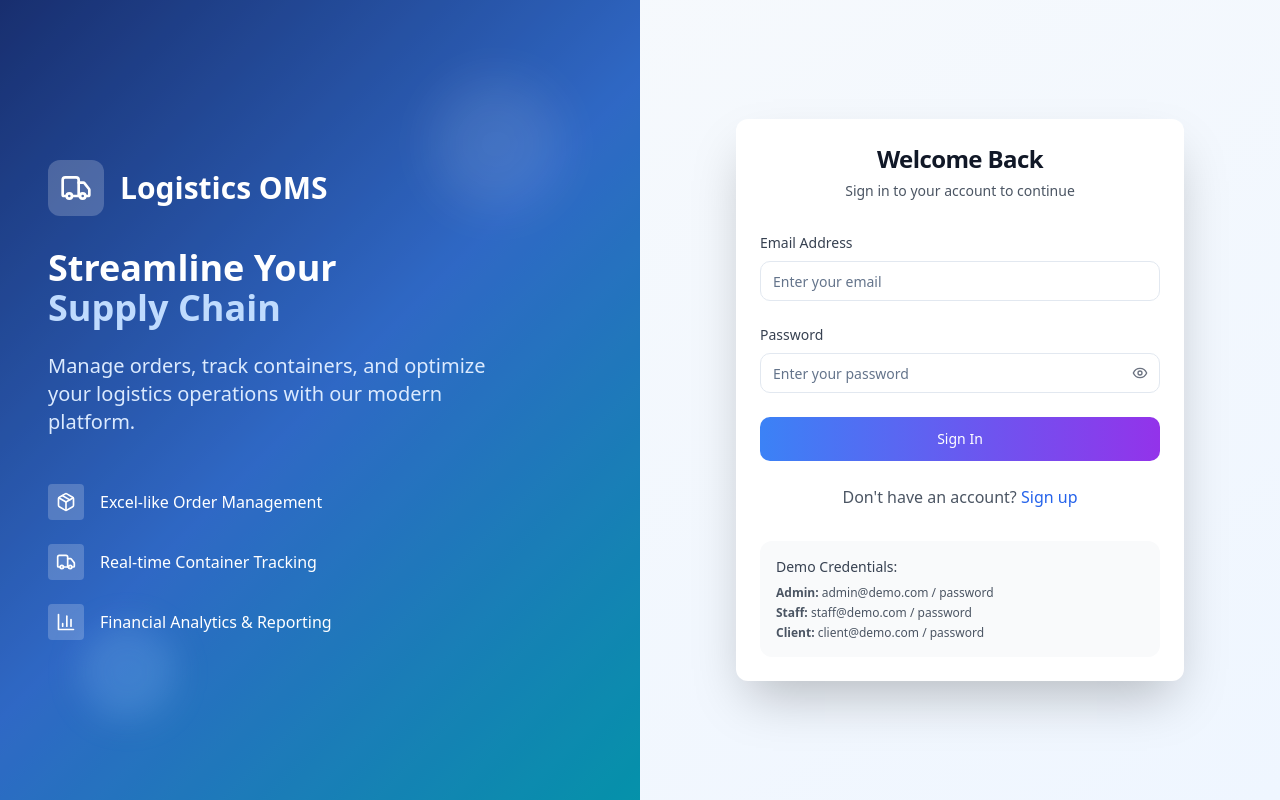
Test: Login Component - All Elements and Buttons › Form Input Tests › clears errors when user starts typing
Note: Submit empty form to trigger validation
Click the button "Sign In" at (960, 439), box [760,417,1160,461]
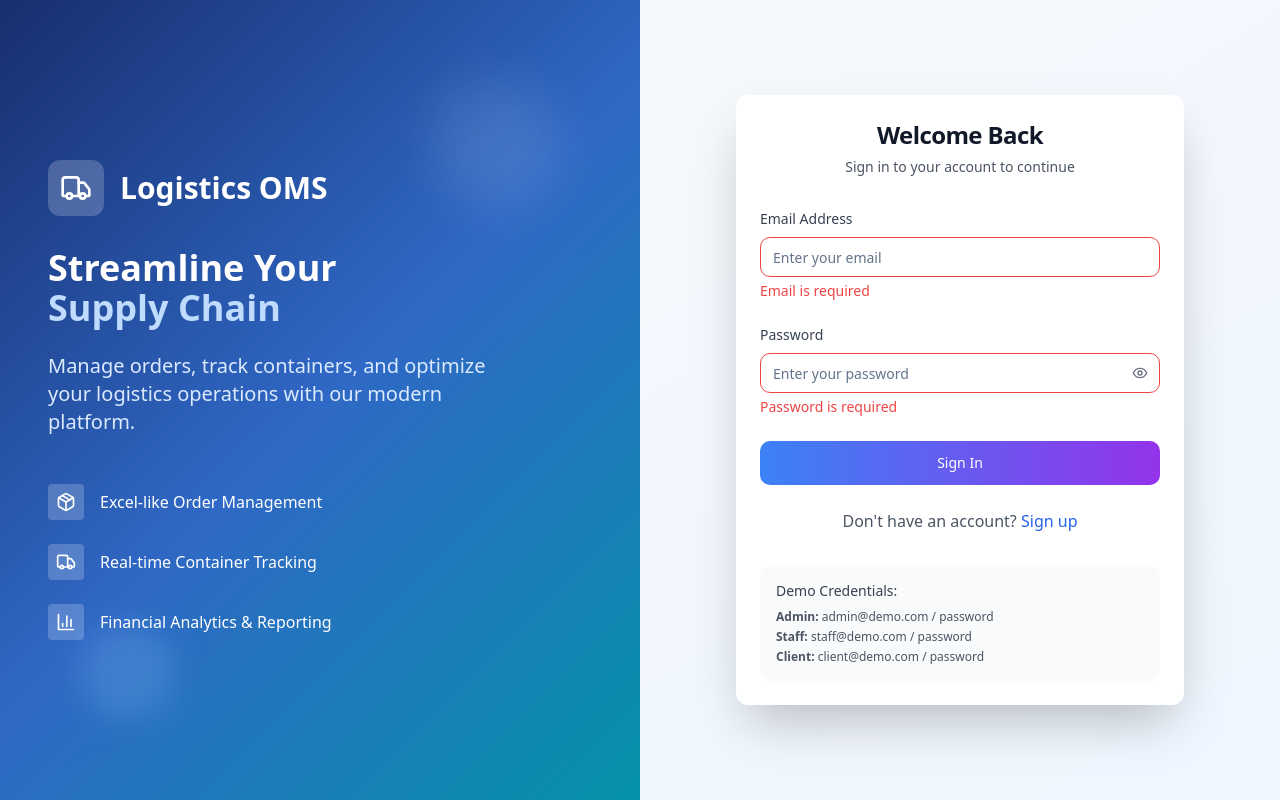
Expected: the text "Email is required" is shown, [760,281,870,300]
Note: Start typing to clear error
Type "a" into the field with placeholder "Enter your email" at (960, 257), box [760,237,1160,277]
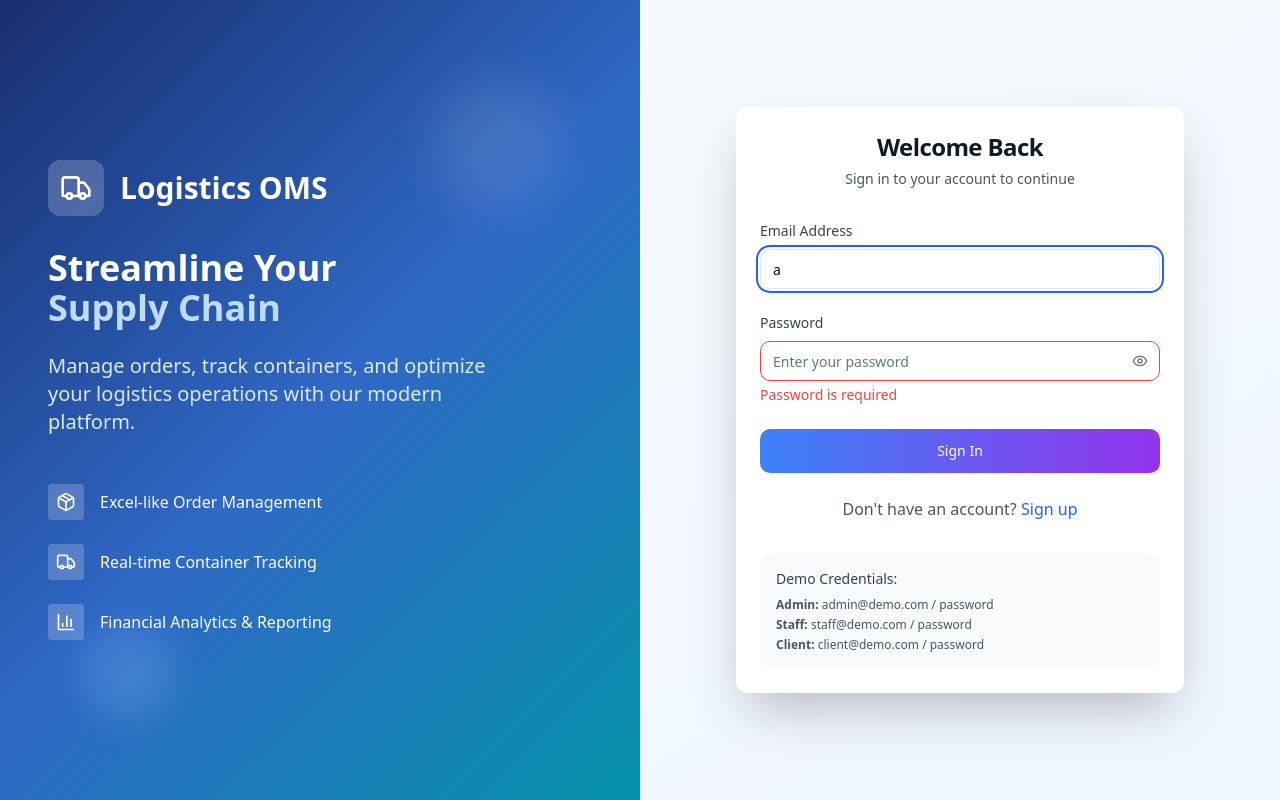
Expected: the text "Email is required" is gone
